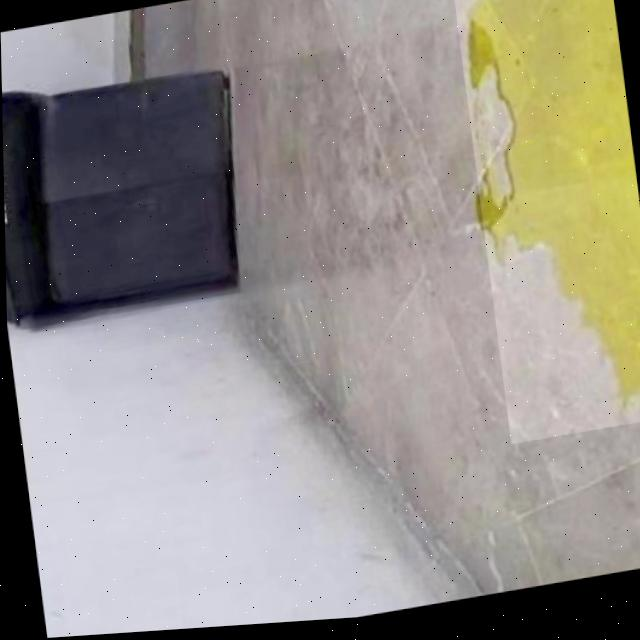spillage: (468, 0, 640, 409)
